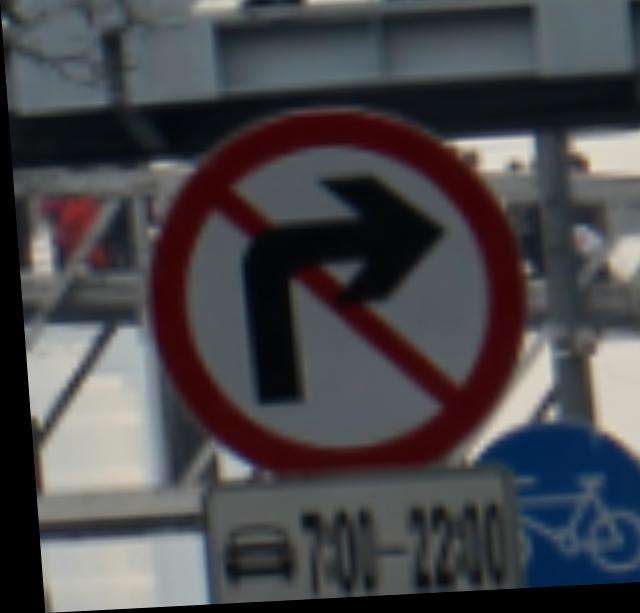not_turn_right: (131, 94, 531, 489)
